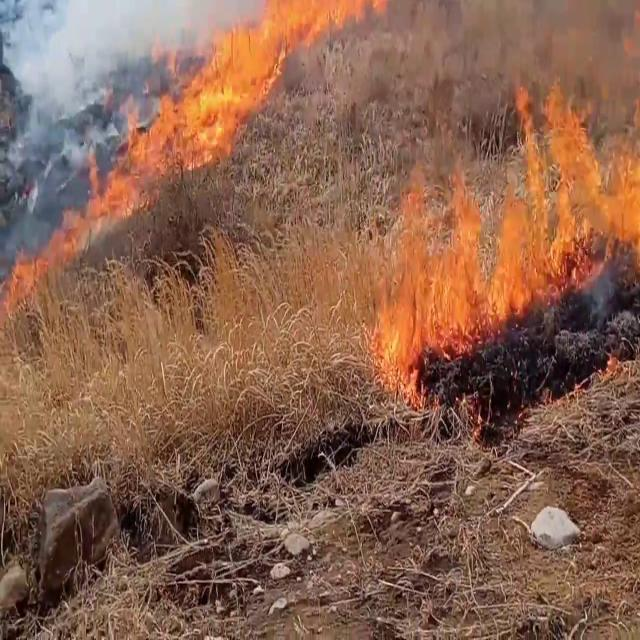Fire: (366, 18, 640, 390), (82, 4, 306, 232), (7, 204, 88, 316)
